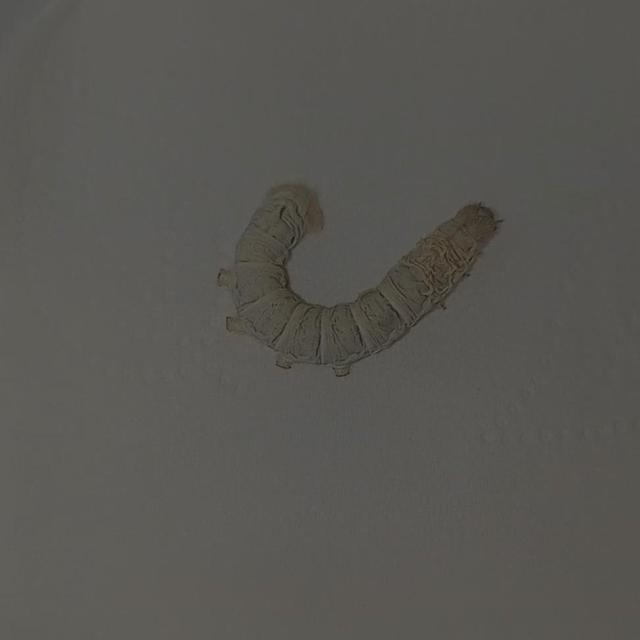Healthy: (181, 145, 527, 402)
